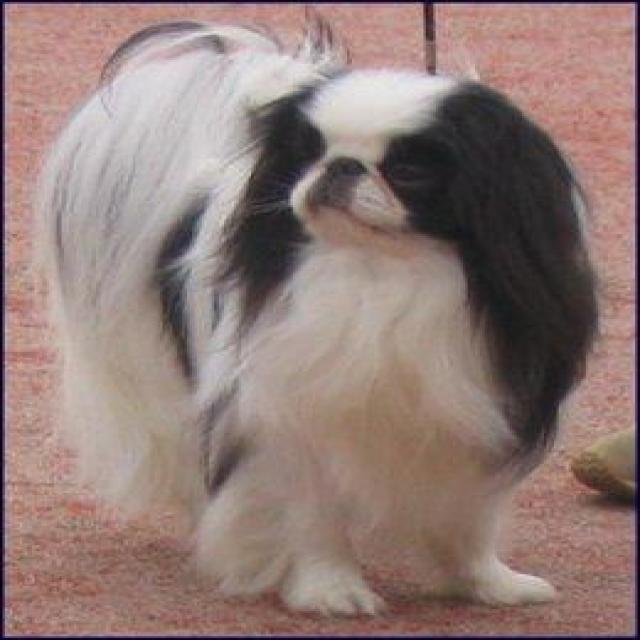husky: (25, 4, 608, 624)
